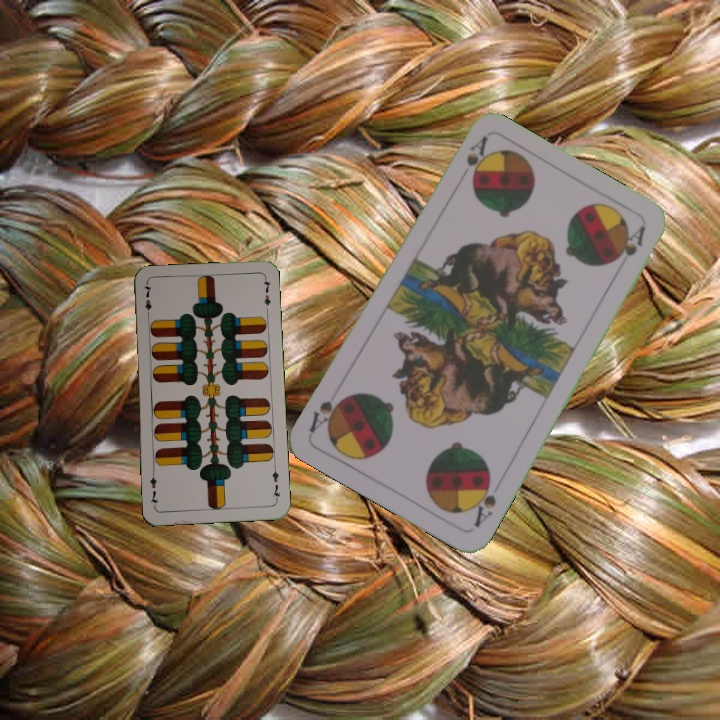E7: (268, 463, 283, 503), (140, 281, 154, 321)
SA: (468, 472, 499, 530), (462, 132, 491, 181)
